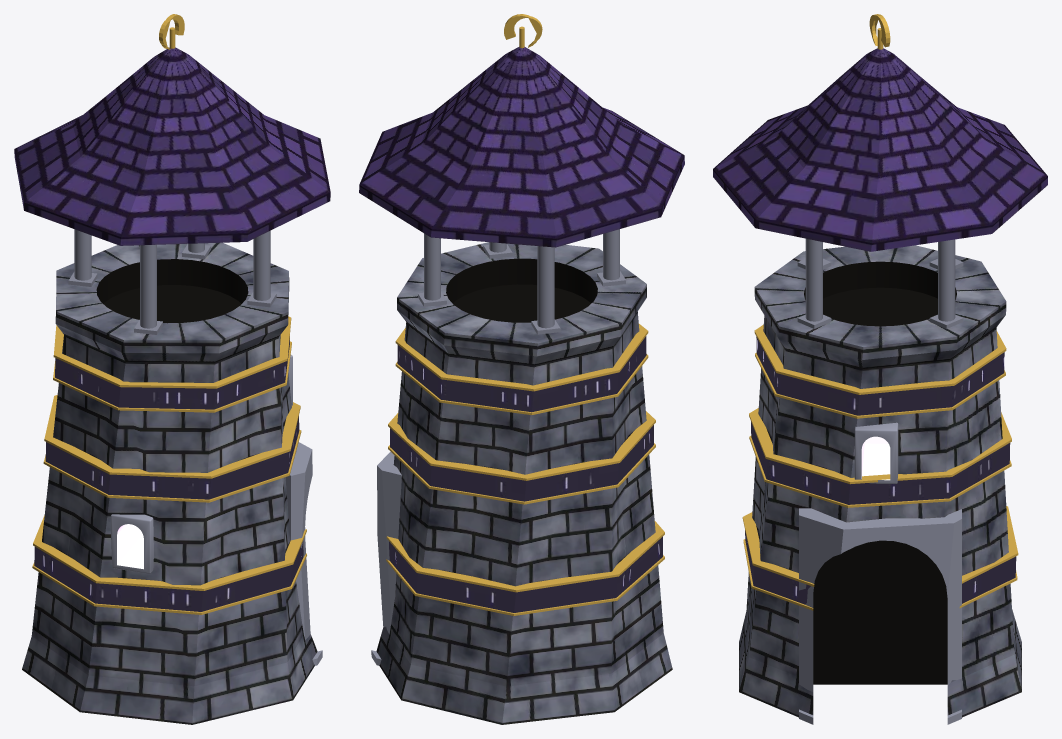
File: wizard-spire.glb
3 renders of one model, left to right at view 1: azimuth 30°, elevation 25°; view 2: azimuth 150°, elevation 25°; view 3: azimuth 270°, elevation 25°, orthographic.
Visible parts, largest first — view 1: spire, roof.001, runes, rims, pillars, door-frame.003, window-frame.003, finial.002; view 2: spire, roof.001, runes, rims, pillars, door-frame.003, finial.002; view 3: spire, roof.001, runes, door-frame.003, rims, pillars, window-frame.002, finial.002.
Part boxes in pixels (<box>): spire: <box>22,242,317,724</box>; roof.001: <box>14,47,330,245</box>; runes: <box>34,336,303,611</box>; rims: <box>32,316,306,614</box>; pillars: <box>68,229,276,334</box>; door-frame.003: <box>285,442,322,665</box>; window-frame.003: <box>111,514,153,573</box>; finial.002: <box>159,14,184,49</box>; spire: <box>376,242,672,724</box>; roof.001: <box>359,47,684,247</box>; runes: <box>389,336,662,612</box>; rims: <box>386,323,664,615</box>; pillars: <box>418,229,625,334</box>; door-frame.003: <box>371,451,401,665</box>; finial.002: <box>504,14,542,48</box>; spire: <box>739,245,1021,717</box>; roof.001: <box>713,48,1047,251</box>; runes: <box>745,336,1016,604</box>; door-frame.003: <box>799,508,961,724</box>; rims: <box>742,324,1018,610</box>; pillars: <box>797,238,963,328</box>; window-frame.002: <box>854,422,898,483</box>; finial.002: <box>869,14,890,49</box>.
Bounding box in the file's own units: 6.99 × 15 × 6.99.
10 materials, 3 textured.
